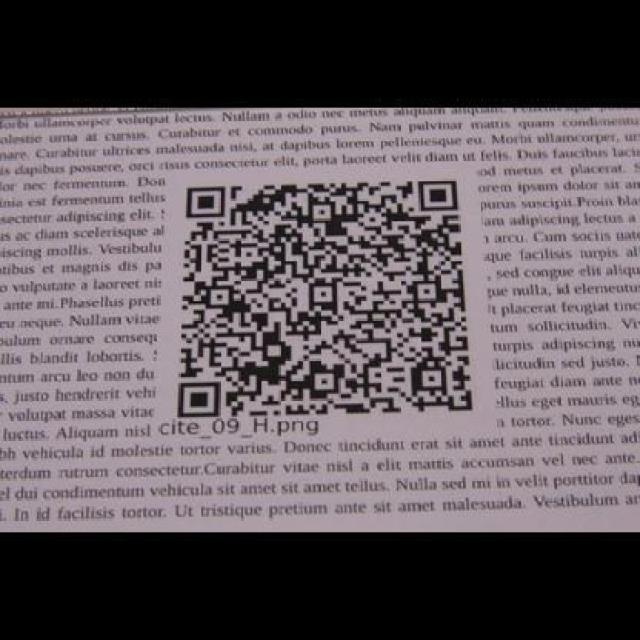QRCode: (175, 172, 480, 421)
